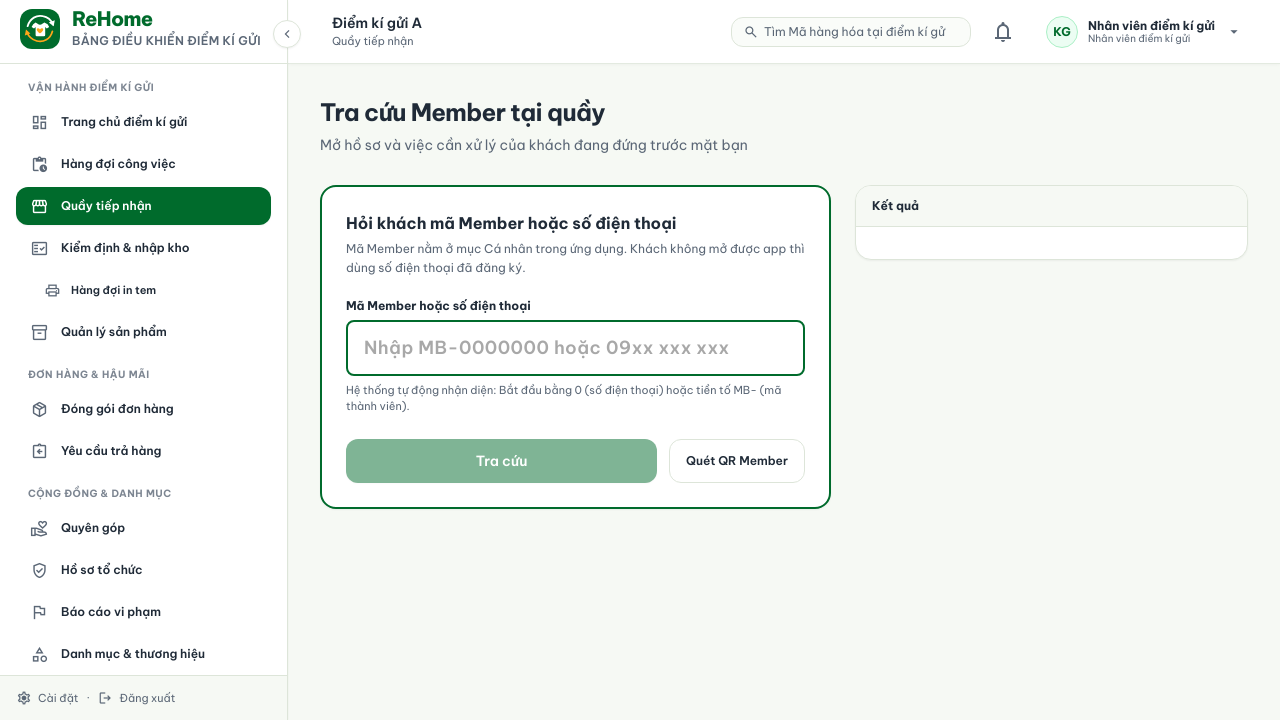
QT-01 Unified Counter Lookup Input & Auto-detection › submits { memberCode: ... } payload when inputting a Member Code (e.g. MB-004821)
Type "MB-004821" into the field with placeholder "Nhập MB-0000000 hoặc 09xx xxx xxx" at (576,348), box [346,320,805,376]
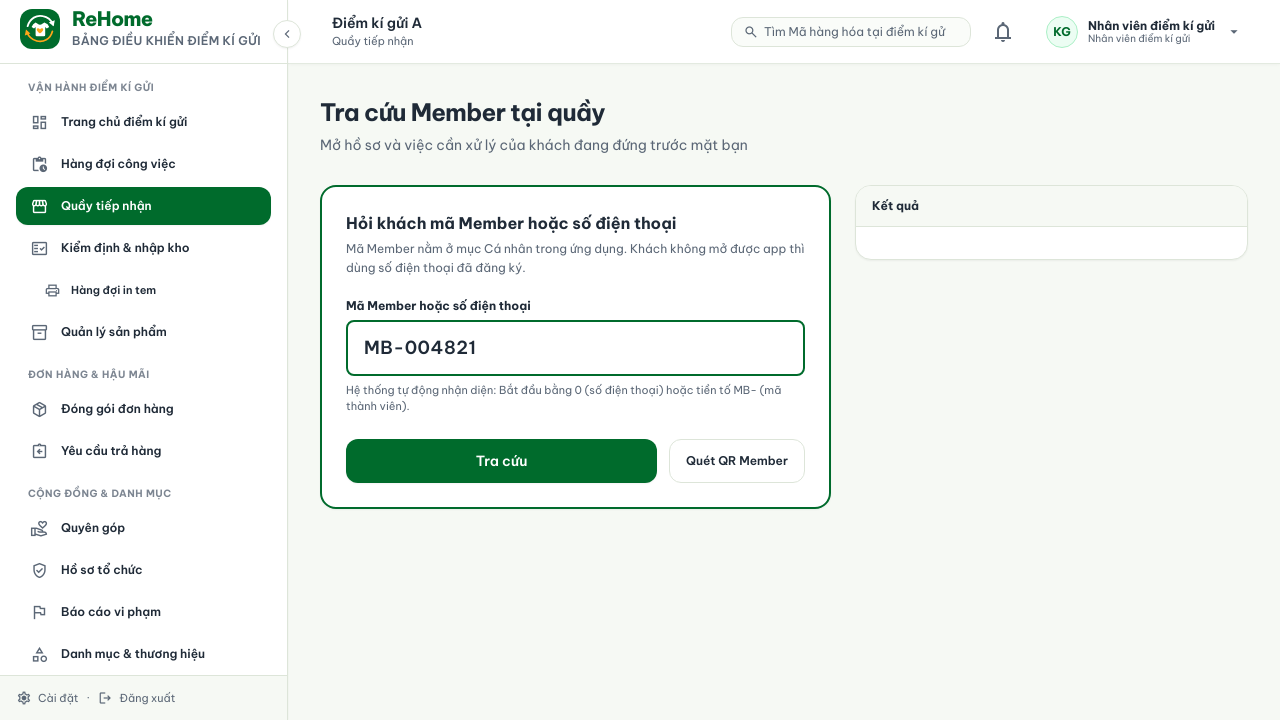
Click the button "Tra cứu" at (502,461), box [346,439,657,483]
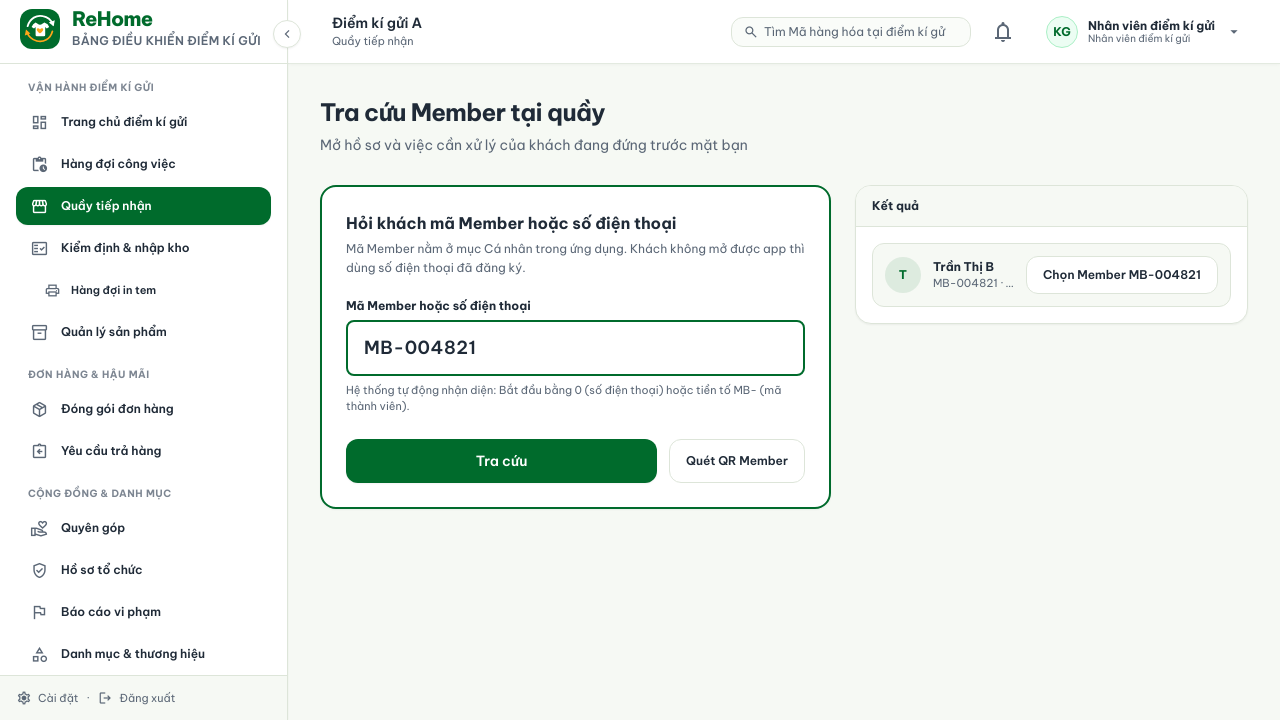
Expected: the text "Trần Thị B" is shown, [933,258,994,274]
